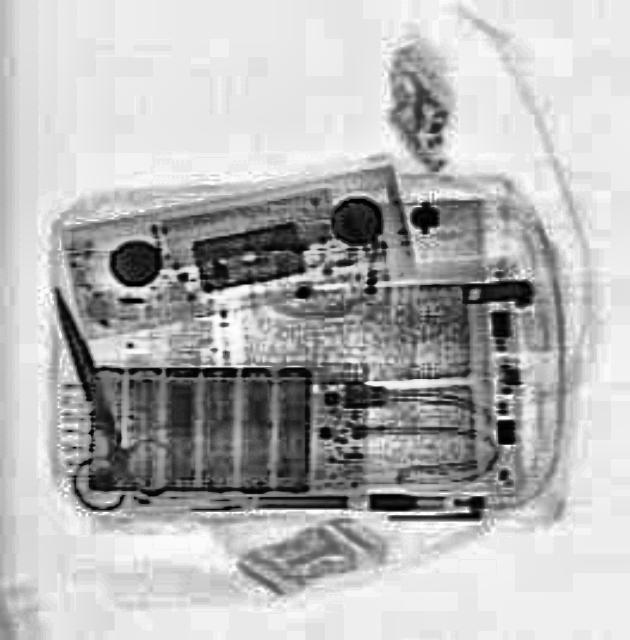Scissors: (4, 270, 178, 516)
